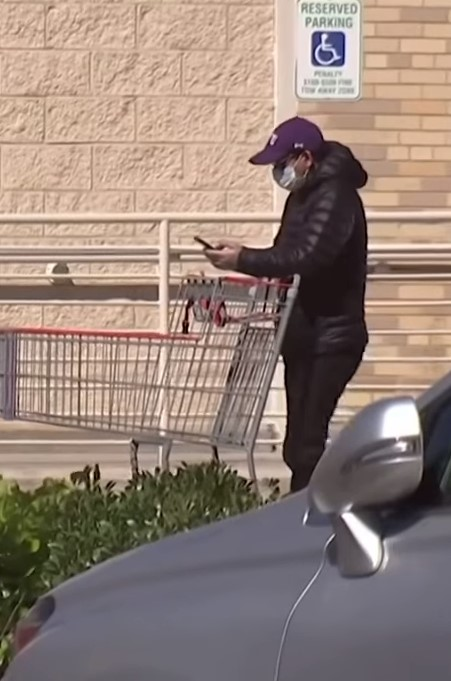face_with_mask: (249, 118, 325, 199)
